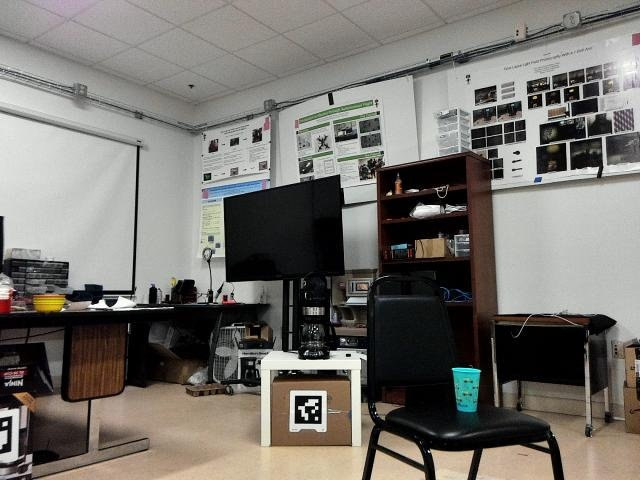coffee_cup: (449, 365, 483, 416)
